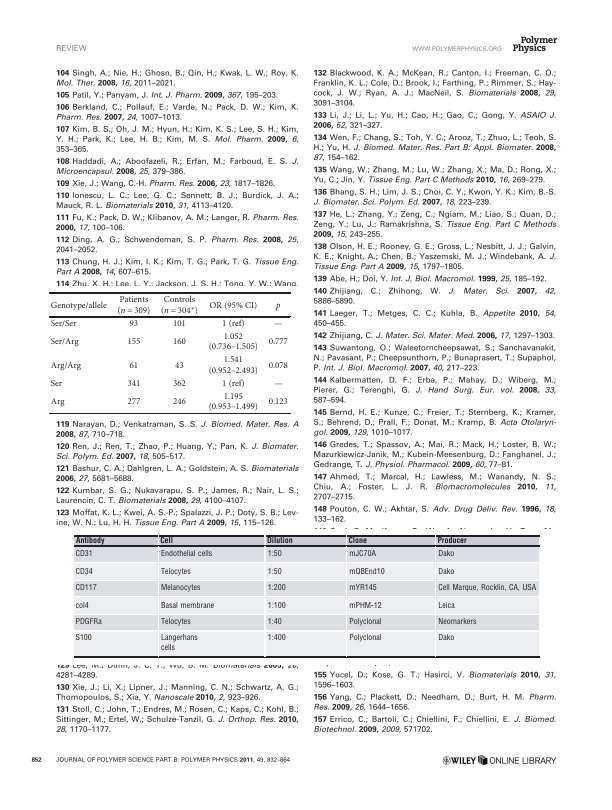borderless: (74, 534, 540, 656), (49, 291, 291, 414)
cell: (207, 332, 258, 353), (207, 355, 258, 376), (207, 392, 258, 413), (437, 583, 537, 593), (160, 295, 199, 316), (159, 633, 198, 653), (116, 295, 151, 316), (49, 300, 107, 311), (208, 300, 258, 311), (159, 601, 215, 610), (159, 549, 213, 558), (159, 583, 201, 593), (437, 617, 477, 627), (49, 360, 82, 371), (348, 617, 382, 627), (348, 633, 382, 643), (348, 567, 385, 576), (159, 617, 191, 627), (74, 536, 105, 546), (436, 536, 467, 546), (348, 601, 382, 610), (49, 337, 79, 347), (348, 583, 377, 593), (159, 567, 191, 576), (265, 536, 293, 546), (74, 617, 102, 627), (49, 319, 77, 329), (348, 549, 376, 558), (221, 319, 245, 329), (221, 379, 245, 389), (267, 360, 288, 371), (267, 397, 288, 408), (74, 583, 97, 593), (267, 337, 288, 347), (347, 536, 367, 546), (266, 583, 286, 593), (266, 633, 286, 643), (266, 601, 286, 610), (74, 633, 92, 643), (437, 633, 455, 643), (49, 397, 65, 408), (74, 549, 93, 558), (74, 567, 93, 576), (126, 397, 141, 408), (172, 397, 187, 408), (437, 549, 455, 558), (437, 567, 455, 576), (437, 601, 455, 610), (266, 617, 282, 627), (172, 319, 187, 329), (126, 337, 141, 347), (172, 337, 187, 347), (126, 379, 141, 389), (172, 379, 187, 389), (266, 549, 282, 558), (266, 567, 282, 576), (159, 536, 173, 546), (49, 379, 63, 389), (74, 601, 89, 610), (128, 360, 139, 371), (128, 319, 139, 329), (174, 360, 184, 371), (275, 302, 281, 311), (273, 323, 283, 327), (273, 383, 283, 387)
